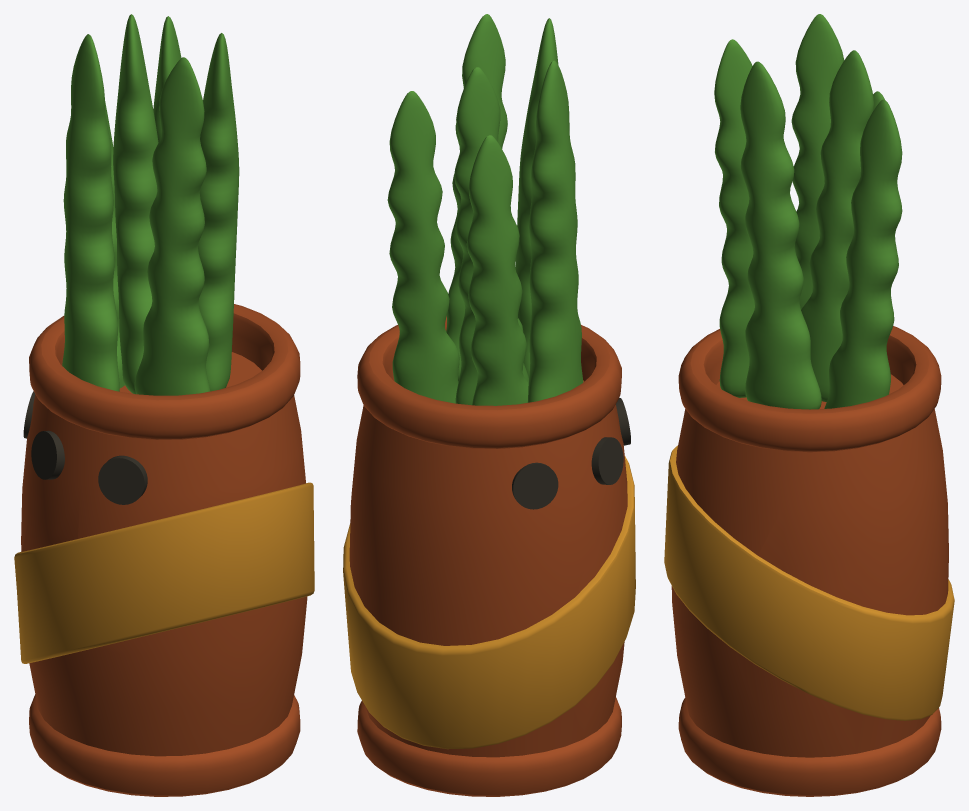
Rendered from pot_2.fbx.
3 views of the same model, side by side, from view 1: azimuth 30°, elevation 25°; view 2: azimuth 150°, elevation 25°; view 3: azimuth 270°, elevation 25° (orthographic). The views are drawn at different scales.
Parts seen in each view (by area): view 1: pot_2; view 2: pot_2; view 3: pot_2.
Part boxes in pixels (x1,y1,x2,y2): pot_2: [14, 14, 314, 796]; pot_2: [343, 14, 635, 796]; pot_2: [664, 14, 954, 796].
Size of the model in its own units: 65.03 by 172 by 64.91.
